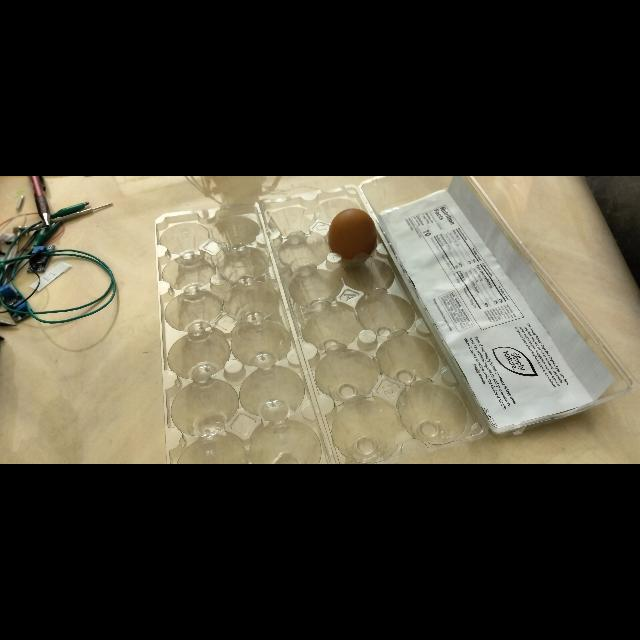Egg: (328, 206, 380, 276)
